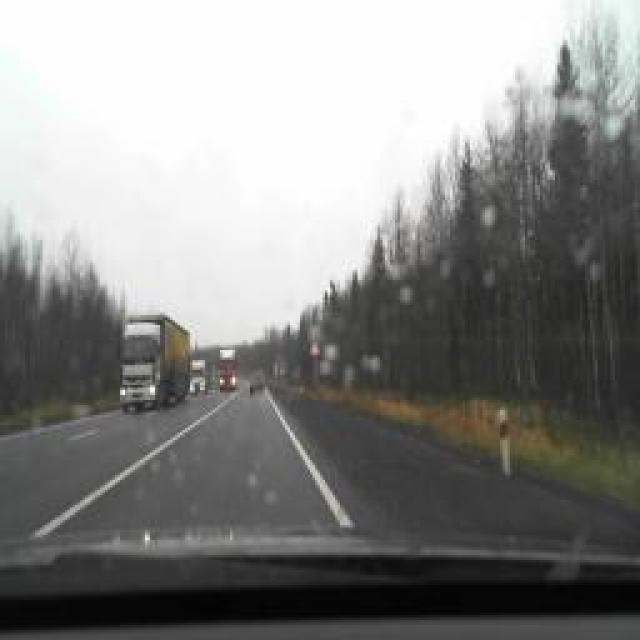sign: (309, 337, 321, 355)
